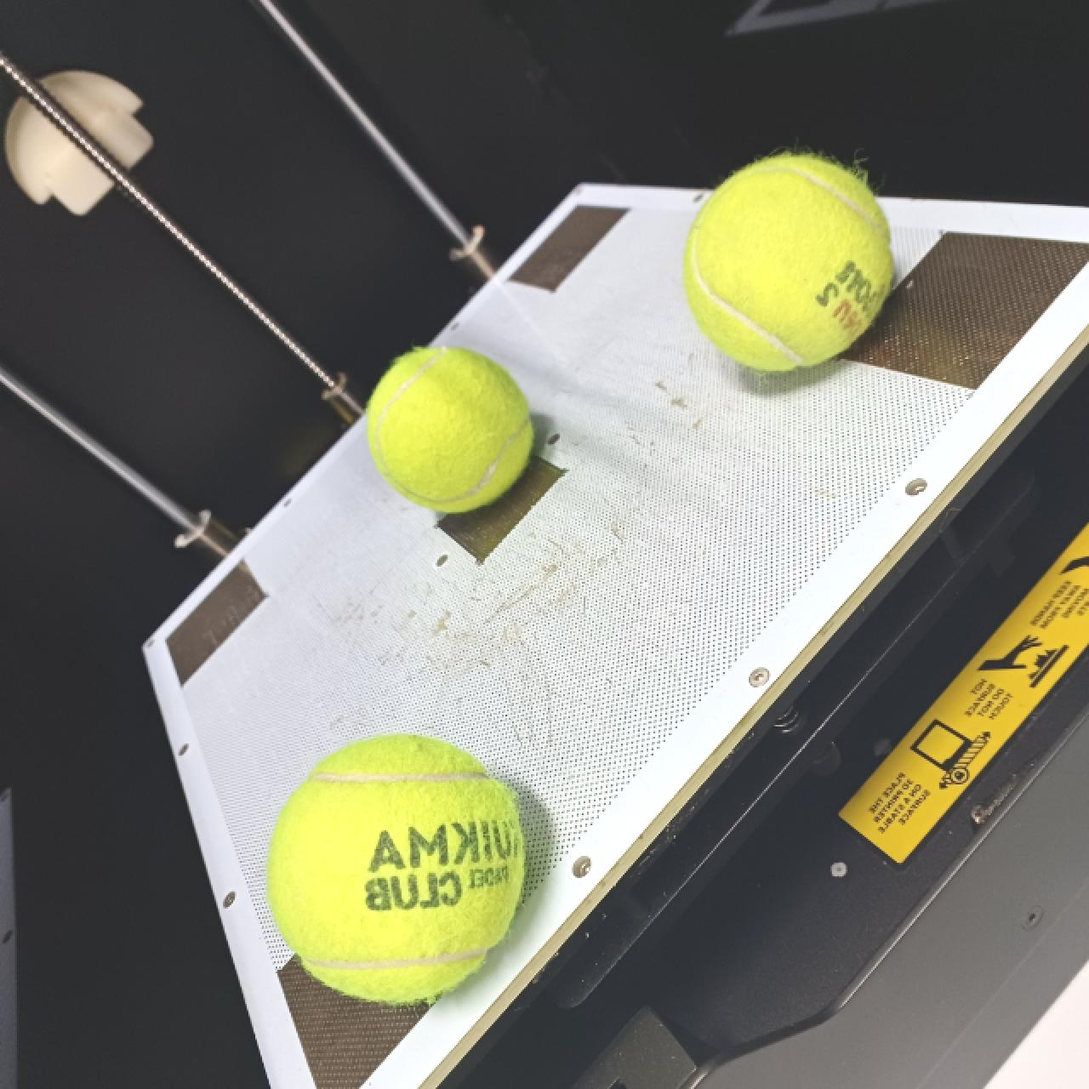tennis-ball: (269, 739, 529, 1004), (681, 150, 892, 376), (363, 346, 537, 514)
